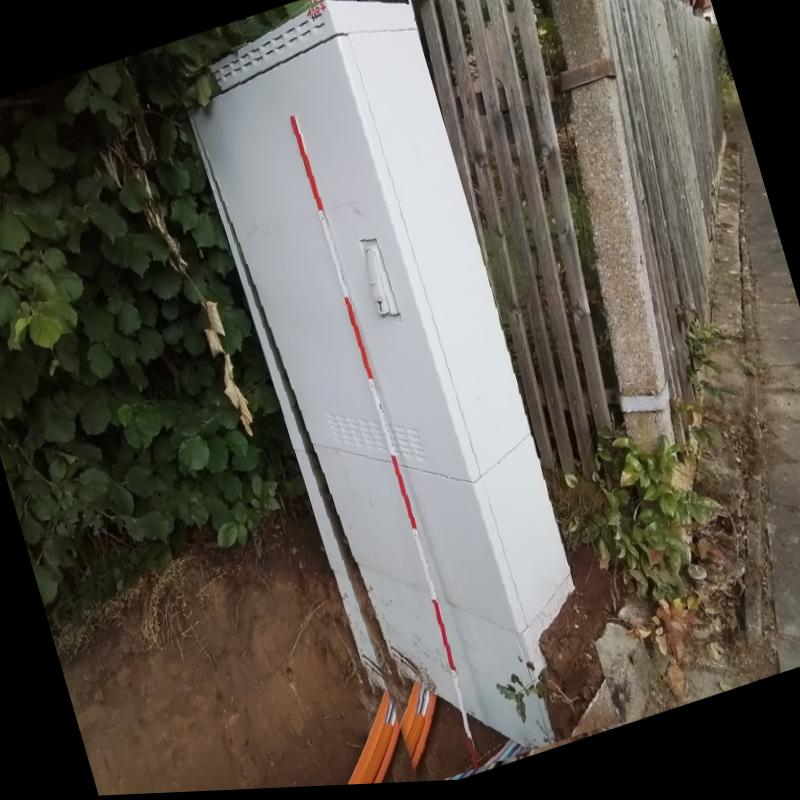NT-Gehause: (180, 1, 571, 752)
